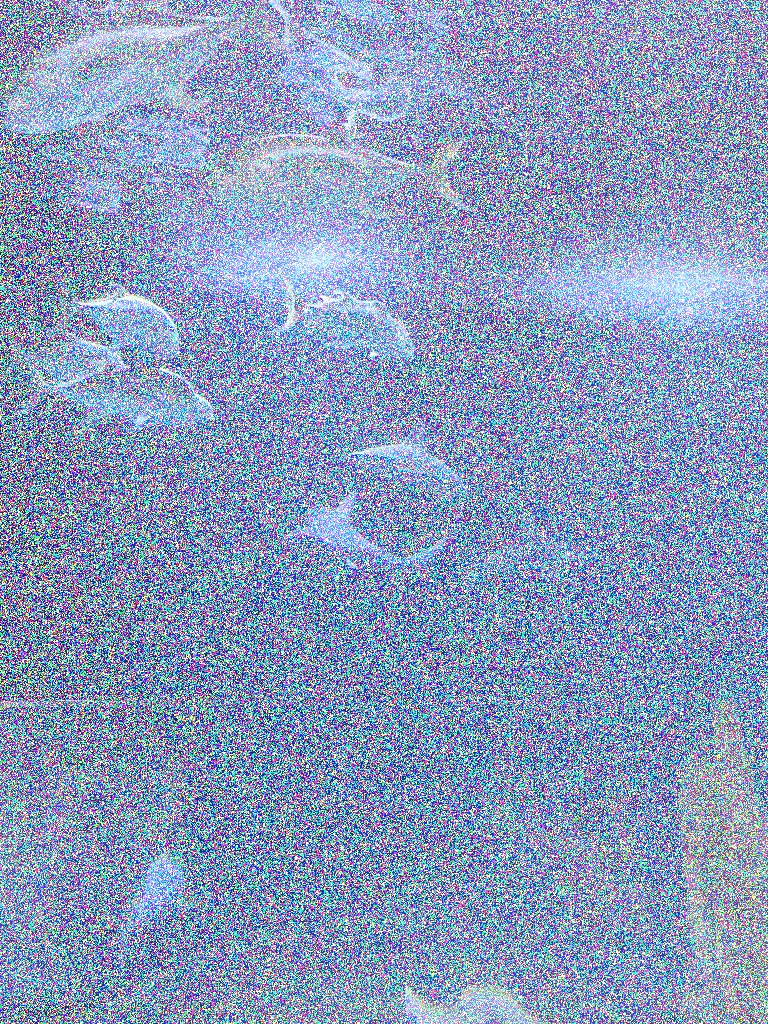fish: (10, 341, 196, 425), (44, 270, 186, 358), (106, 846, 210, 964), (314, 292, 426, 370), (270, 286, 398, 352), (97, 378, 223, 436), (20, 327, 134, 379)
shark: (272, 492, 444, 578), (342, 410, 480, 506), (454, 508, 608, 586)
